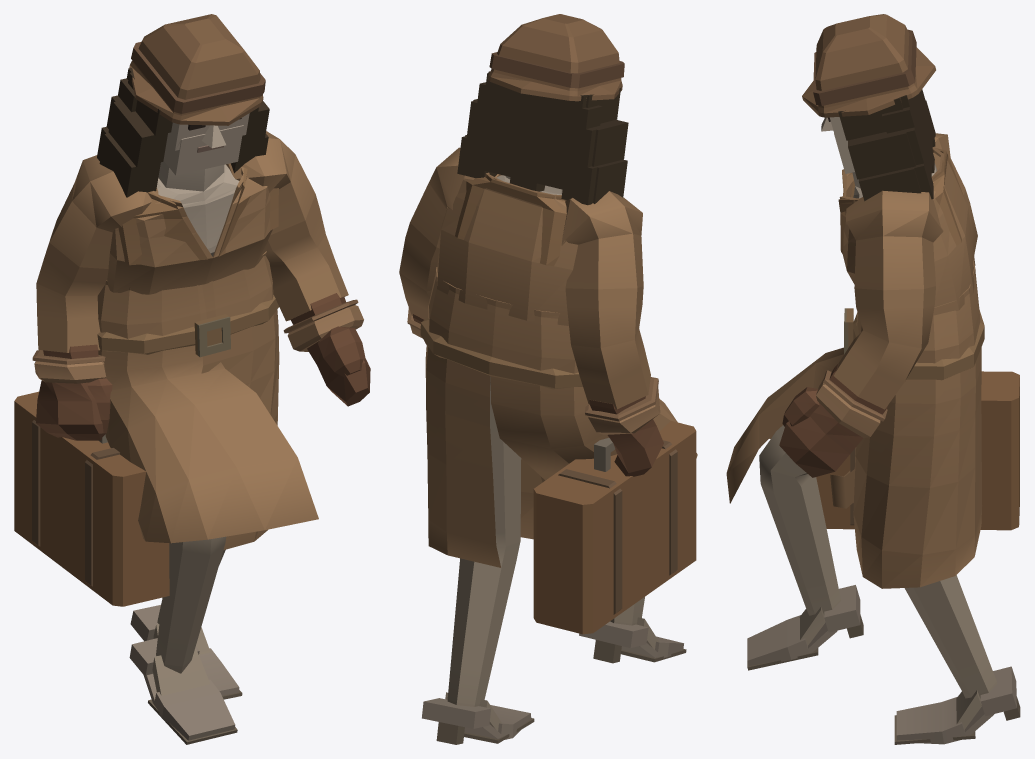
The model's file is passenger-ac425a__walk3.glb.
3 views of the same model, side by side, from view 1: azimuth 30°, elevation 25°; view 2: azimuth 150°, elevation 25°; view 3: azimuth 270°, elevation 25° (orthographic).
Parts seen in each view (by area): view 1: passenger-ac425a__walk3; view 2: passenger-ac425a__walk3; view 3: passenger-ac425a__walk3.
Part boxes in pixels (x1,y1,x2,y2): passenger-ac425a__walk3: (14, 14, 370, 744); passenger-ac425a__walk3: (399, 14, 697, 744); passenger-ac425a__walk3: (726, 14, 1020, 744).
Size of the model in its own units: 0.7611 by 1.77 by 0.6799.
